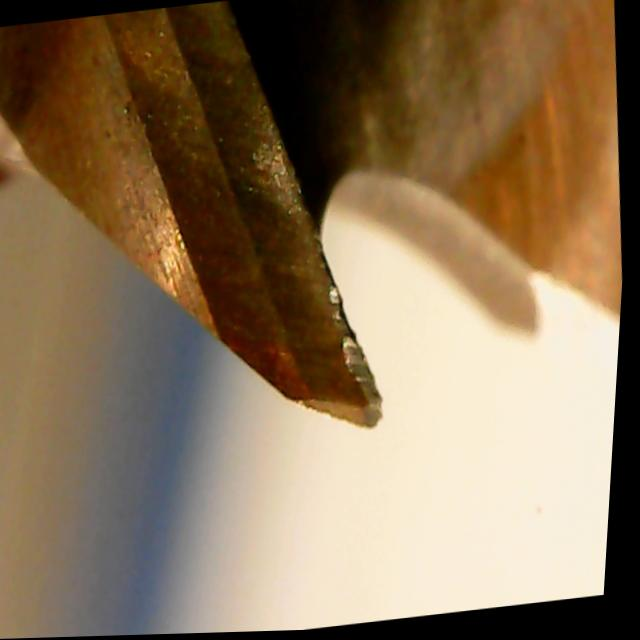Tool-wear-class-1: (221, 171, 432, 459)
